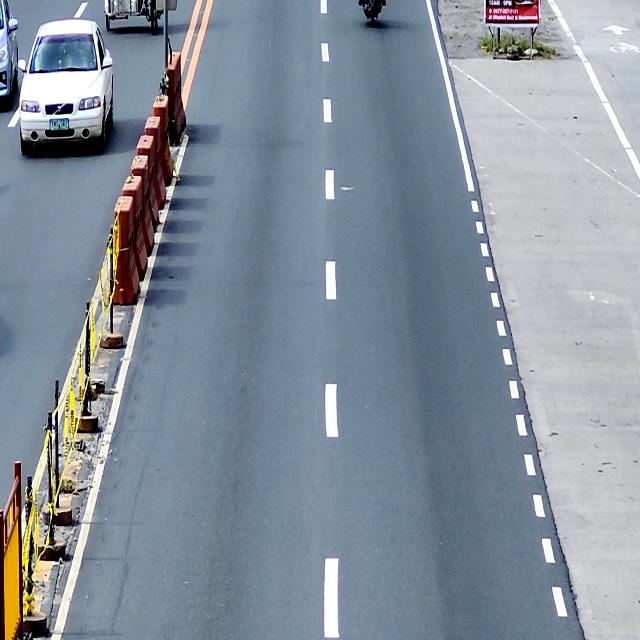Car: (18, 18, 114, 156), (0, 0, 19, 110)
License-Plate: (50, 118, 70, 131)
Motorcycle: (358, 0, 386, 27)
Tricycle: (104, 0, 165, 36)
